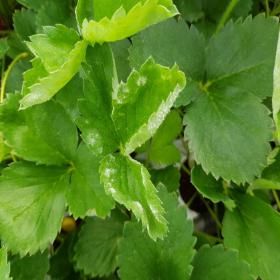Powdery Mildew Leaf: (110, 55, 187, 156), (98, 153, 171, 243), (17, 24, 87, 111), (74, 42, 122, 157), (76, 0, 180, 49)
